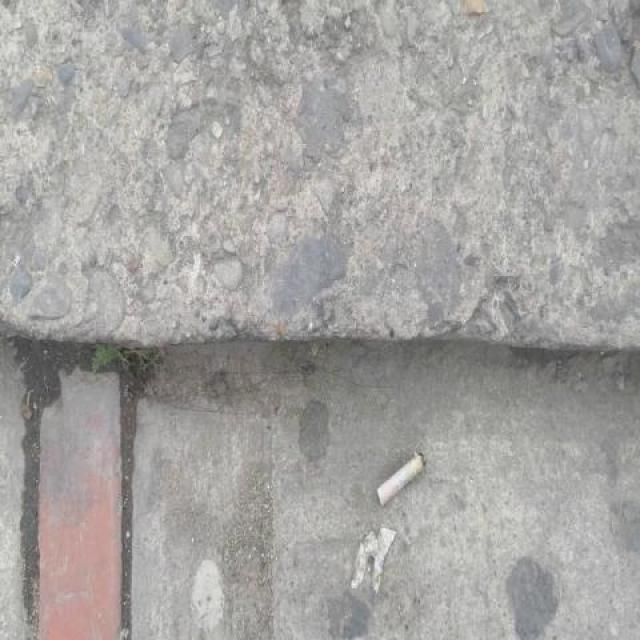non-organic waste: (374, 442, 434, 511)
